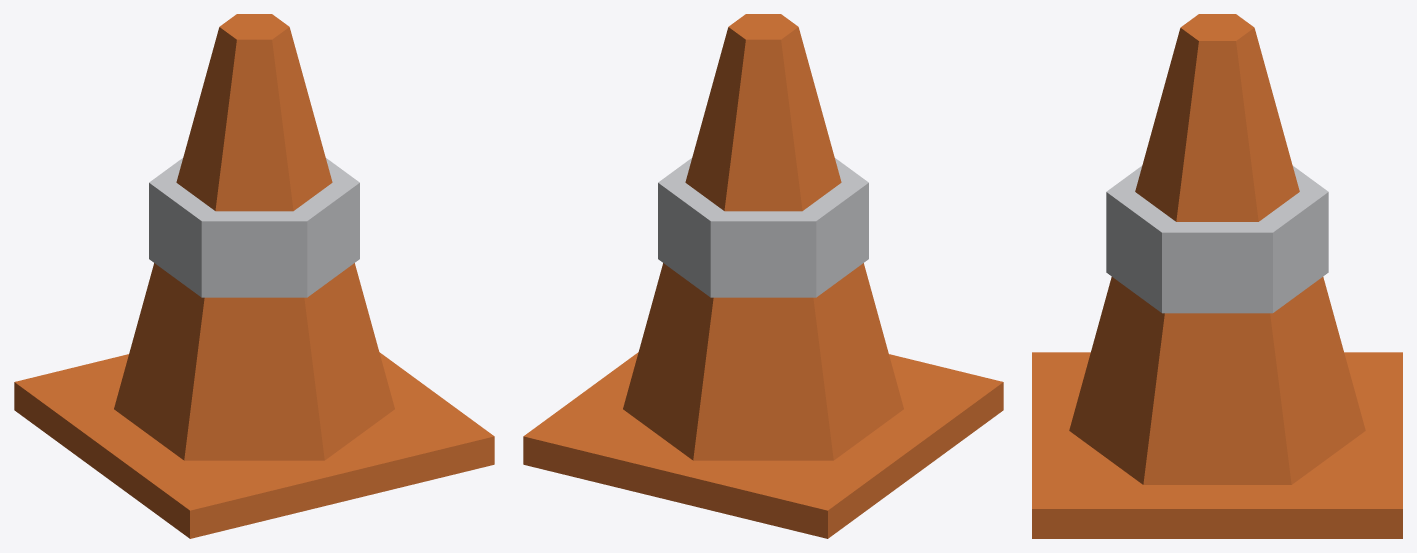
3 views of the same model, side by side, from view 1: azimuth 30°, elevation 25°; view 2: azimuth 150°, elevation 25°; view 3: azimuth 270°, elevation 25° (orthographic). The views are drawn at different scales.
Visible parts, largest first — view 1: cone; view 2: cone; view 3: cone.
Part boxes in pixels (x1,y1,x2,y2): cone: (14,14,494,538); cone: (523,14,1003,538); cone: (1032,14,1402,538).
Bounding box in the file's own units: 0.675 × 0.87 × 0.675.
